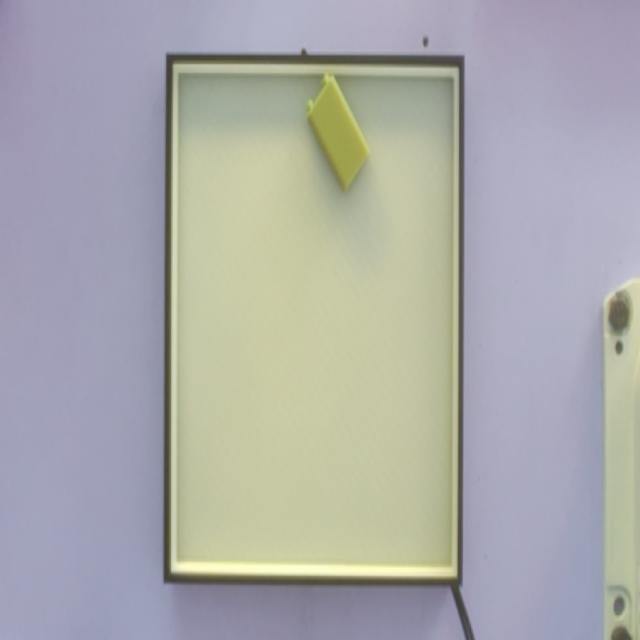bateria: (306, 72, 371, 194)
mesa: (164, 53, 464, 586)
